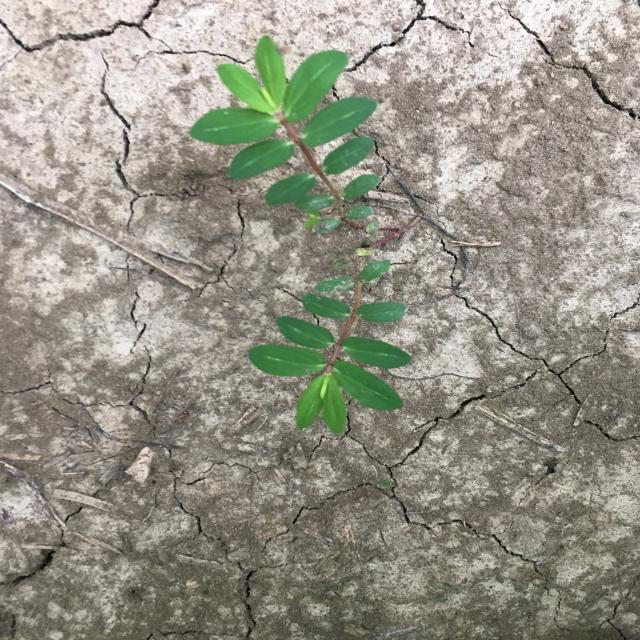SpottedSpurge: (186, 34, 425, 435)
